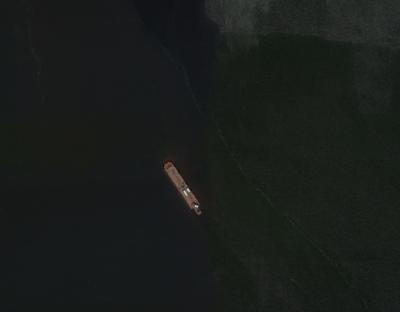Ships: (163, 152, 216, 224)
